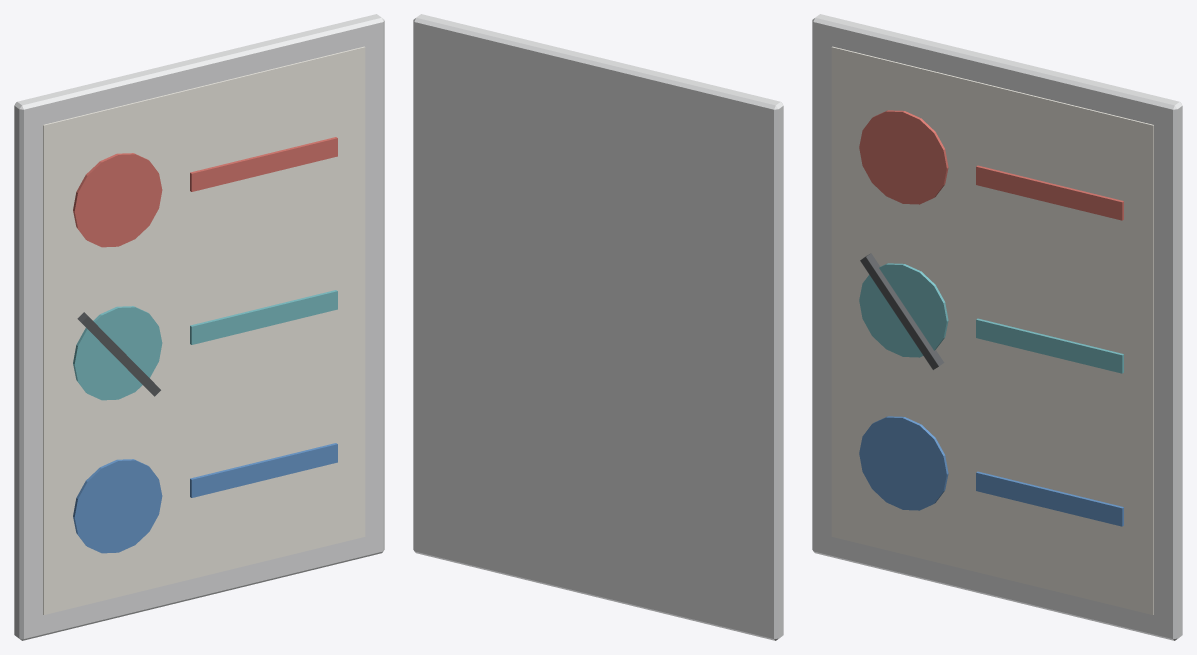
Rendered from poster_b.glb.
3 renders of one model, left to right at view 1: azimuth 30°, elevation 25°; view 2: azimuth 150°, elevation 25°; view 3: azimuth 330°, elevation 25°, orthographic.
Visible parts, largest first — view 1: poster_b_cream, poster_b_chrome, poster_b_float_b, poster_b_redp, poster_b_board, poster_b_dark; view 2: poster_b_chrome; view 3: poster_b_cream, poster_b_chrome, poster_b_redp, poster_b_float_b, poster_b_board, poster_b_dark.
Part boxes in pixels (x1,y1,x2,y2): poster_b_cream: [43, 46, 365, 614]; poster_b_chrome: [14, 14, 384, 640]; poster_b_float_b: [73, 443, 337, 553]; poster_b_redp: [73, 137, 337, 247]; poster_b_board: [73, 290, 337, 400]; poster_b_dark: [77, 312, 160, 396]; poster_b_chrome: [413, 14, 783, 640]; poster_b_cream: [831, 46, 1153, 614]; poster_b_chrome: [812, 14, 1182, 640]; poster_b_redp: [859, 110, 1123, 220]; poster_b_float_b: [859, 416, 1123, 526]; poster_b_board: [859, 263, 1123, 373]; poster_b_dark: [860, 253, 944, 369].
Bounding box in the file's own units: 0.5 × 0.7 × 0.0341.
